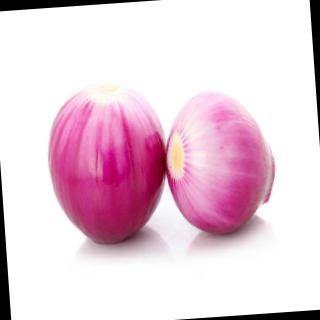Bawang Merah: (40, 77, 175, 251), (161, 84, 283, 242)
